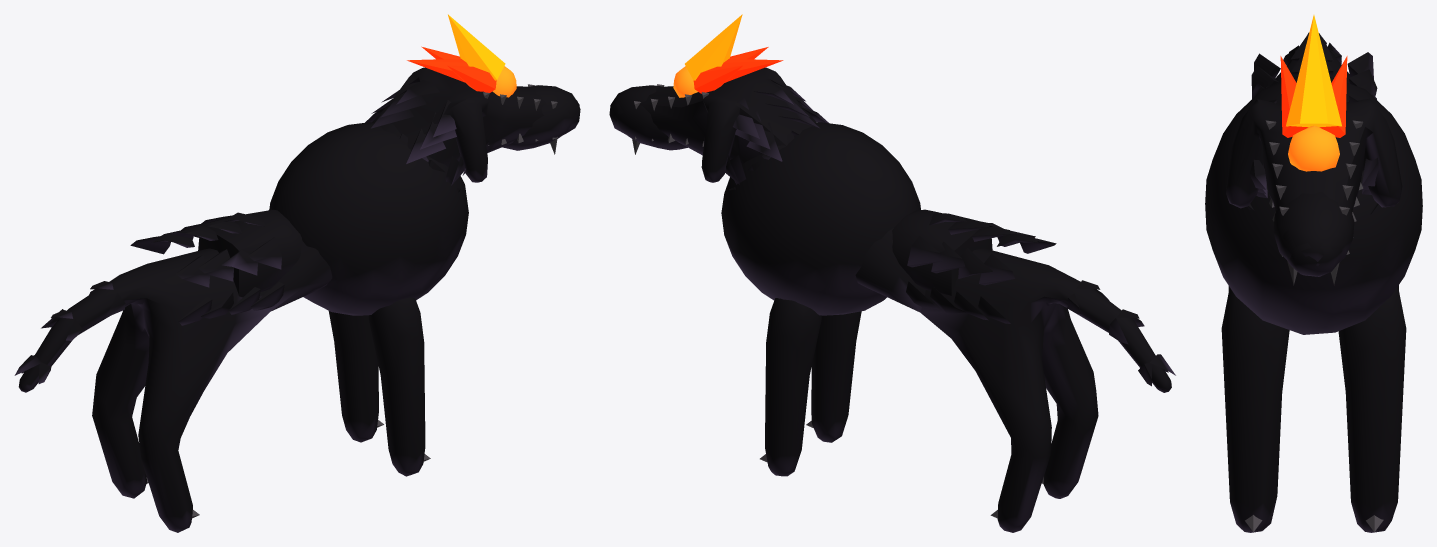
Rendered from black-shuck.glb.
3 renders of one model, left to right at view 1: azimuth 30°, elevation 25°; view 2: azimuth 150°, elevation 25°; view 3: azimuth 270°, elevation 25°, orthographic. The views are drawn at different scales.
Parts seen in each view (by area): view 1: black-shuck.001; view 2: black-shuck.001; view 3: black-shuck.001.
Boxes of the visible parts, x1,y1,x2,y2 form: black-shuck.001: (14, 14, 580, 532); black-shuck.001: (609, 14, 1175, 532); black-shuck.001: (1205, 15, 1422, 532).
Bounding box in the file's own units: 2.1 × 1.52 × 0.5398.
